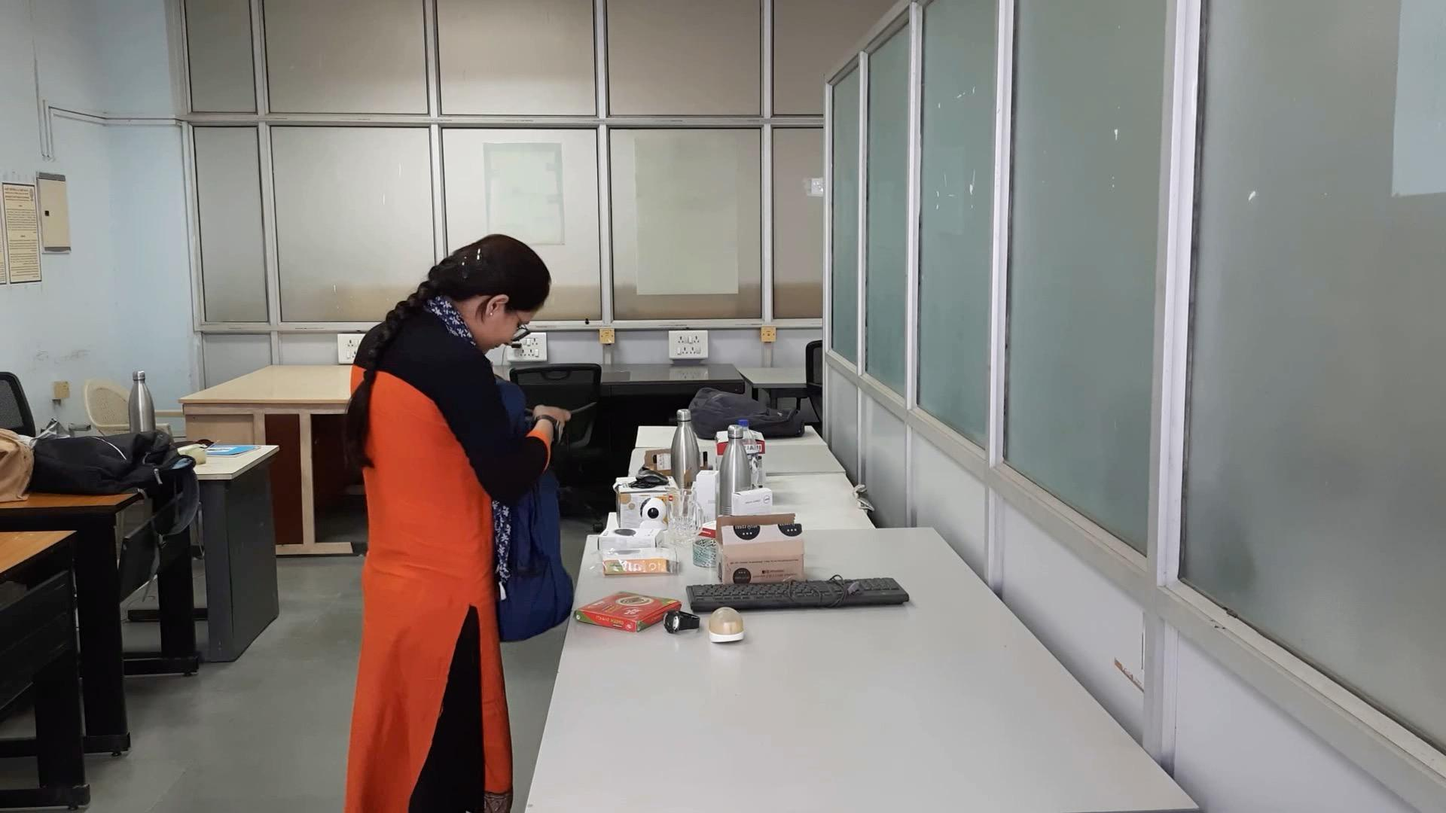shoplifting: (292, 359, 644, 609)
